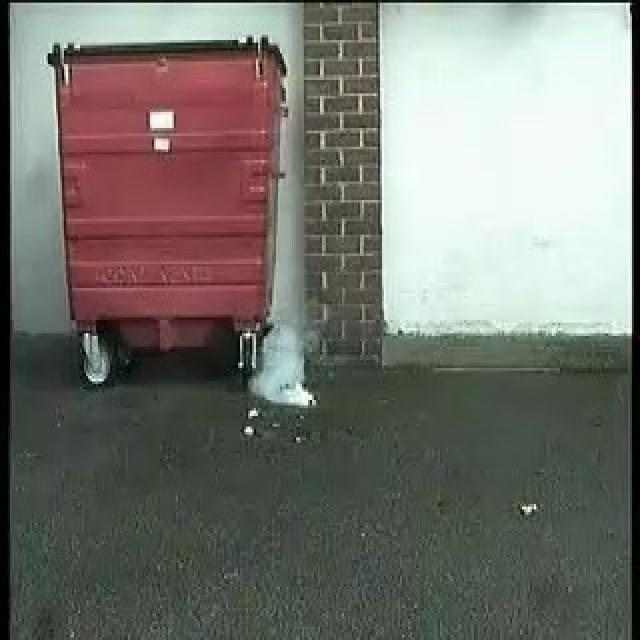smoke: (258, 315, 324, 409)
